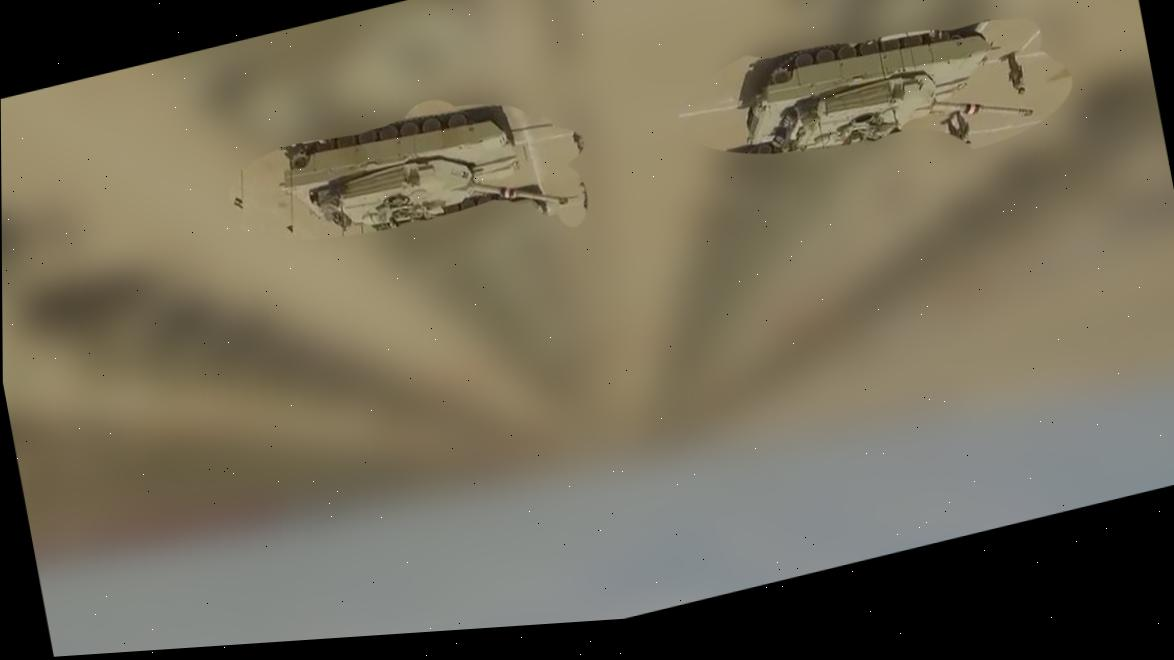tank: (723, 0, 1040, 193), (274, 79, 575, 281)
